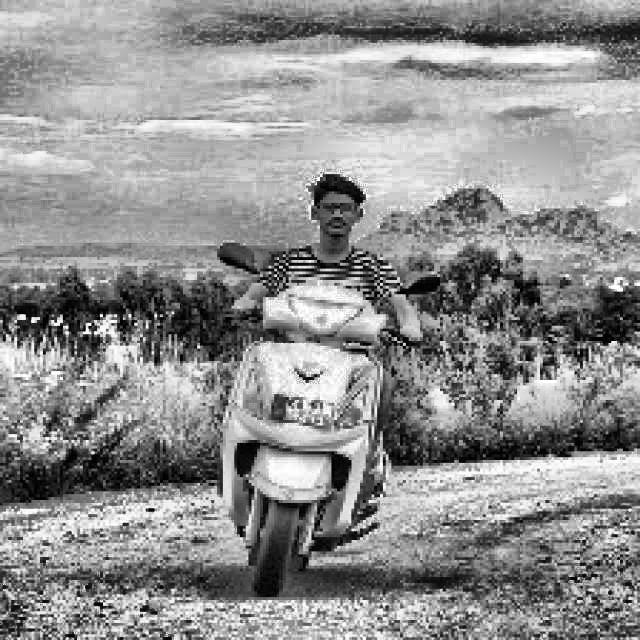motorcycle: (213, 238, 401, 599)
